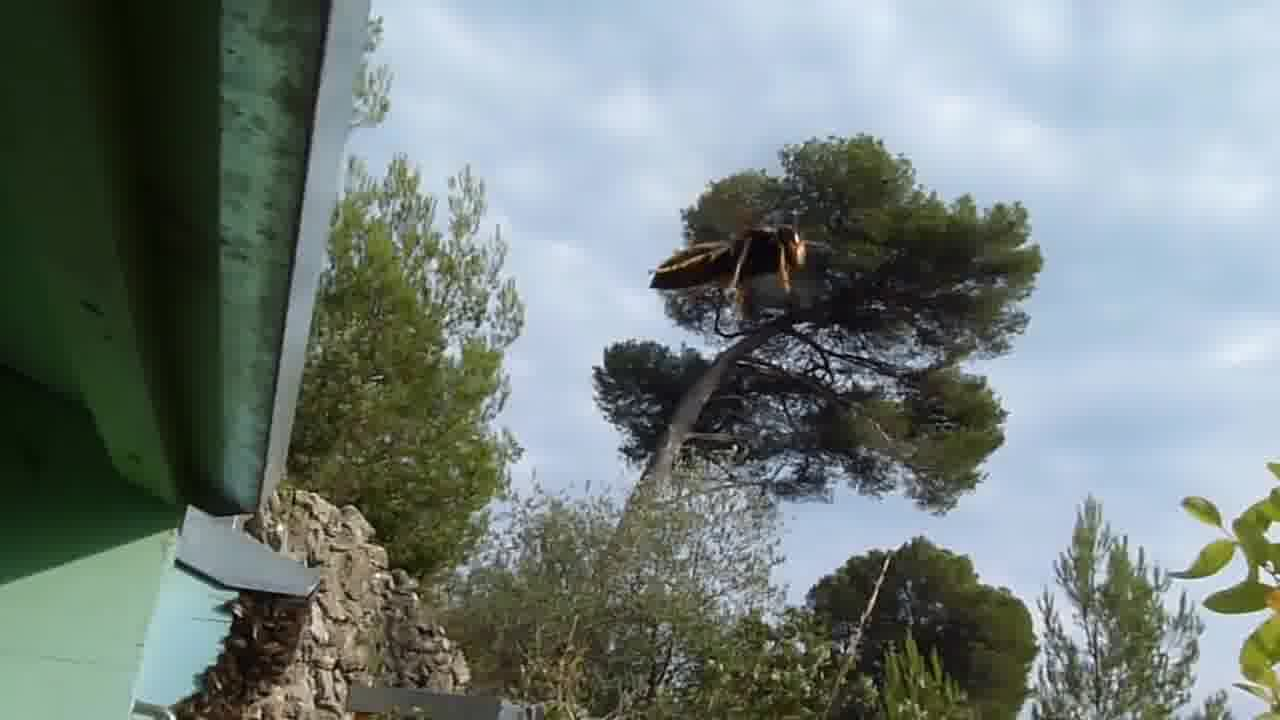bee: (209, 588, 311, 696)
hornet: (644, 211, 823, 317)
